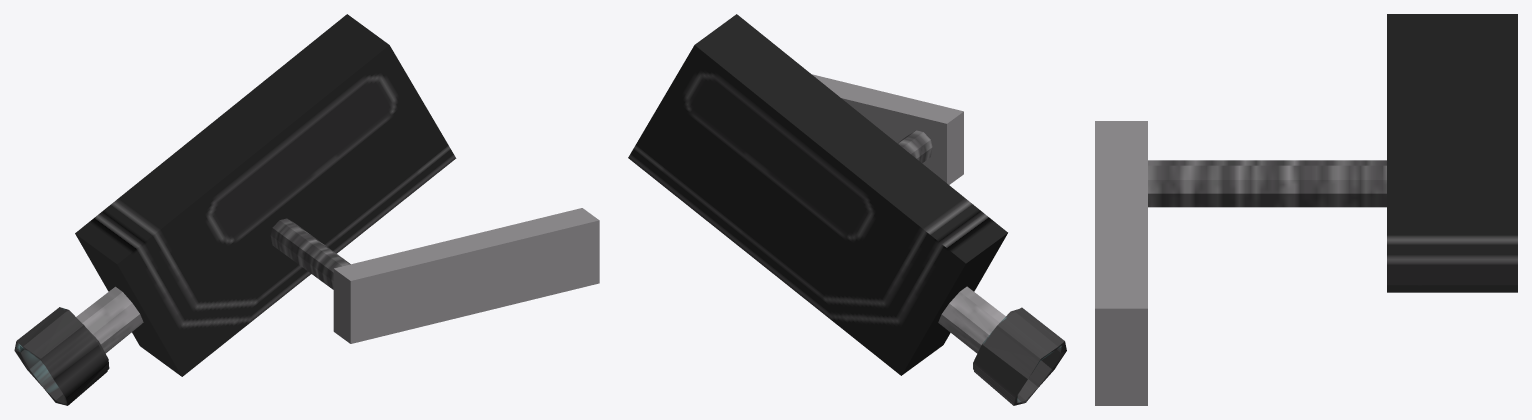
The model's file is SecCam.glb.
3 renders of one model, left to right at view 1: azimuth 30°, elevation 25°; view 2: azimuth 150°, elevation 25°; view 3: azimuth 270°, elevation 25°, orthographic. The views are drawn at different scales.
Visible parts, largest first — view 1: SecCam; view 2: SecCam; view 3: SecCam.
Boxes of the visible parts, x1,y1,x2,y2 form: SecCam: (14, 14, 599, 405); SecCam: (628, 14, 1066, 405); SecCam: (1095, 14, 1517, 405).
Size of the model in its own units: 92.84 by 57.46 by 47.86.
Materials: 1 (1 with a texture image).
